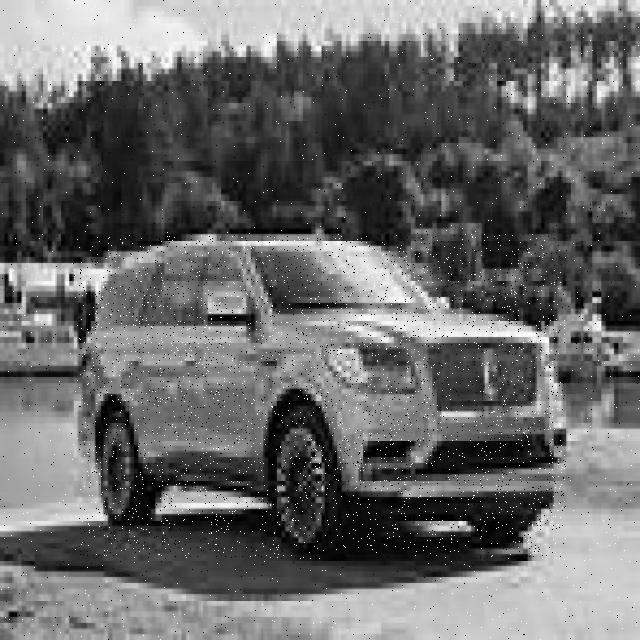SUV: (79, 234, 566, 559)
